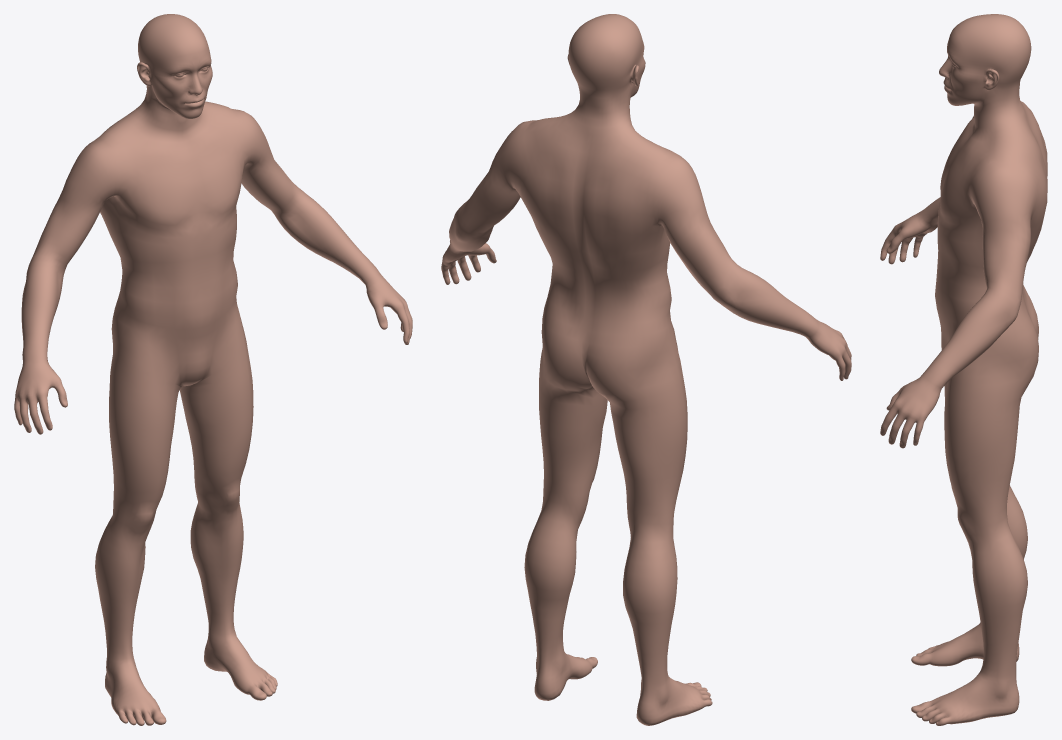
The model's file is male__female_base_mesh_pack.glb.
The picture shows the model from 3 angles, left to right: view 1: azimuth 30°, elevation 25°; view 2: azimuth 150°, elevation 25°; view 3: azimuth 270°, elevation 25°; orthographic projection. The views are drawn at different scales.
Parts seen in each view (by area): view 1: Male1; view 2: Male1; view 3: Male1.
Part boxes in pixels (x1,y1,x2,y2): Male1: [14, 14, 412, 725]; Male1: [441, 14, 851, 725]; Male1: [880, 14, 1047, 725].
Size of what is drawn, in the model's own units: 0.1482 by 0.2414 by 0.0545.
